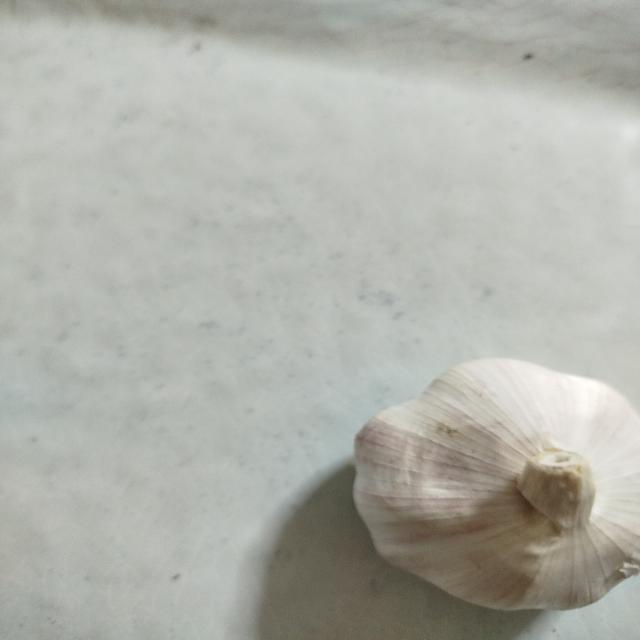garlic: (351, 357, 639, 612)
